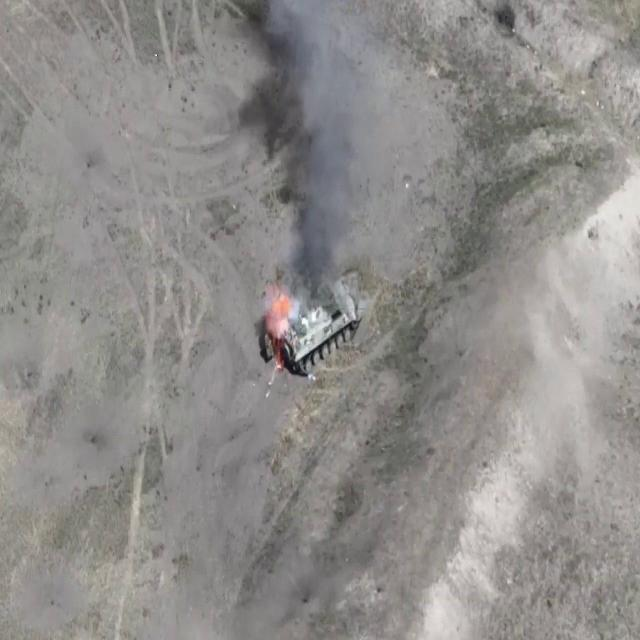Destroyed: (264, 277, 363, 379)
